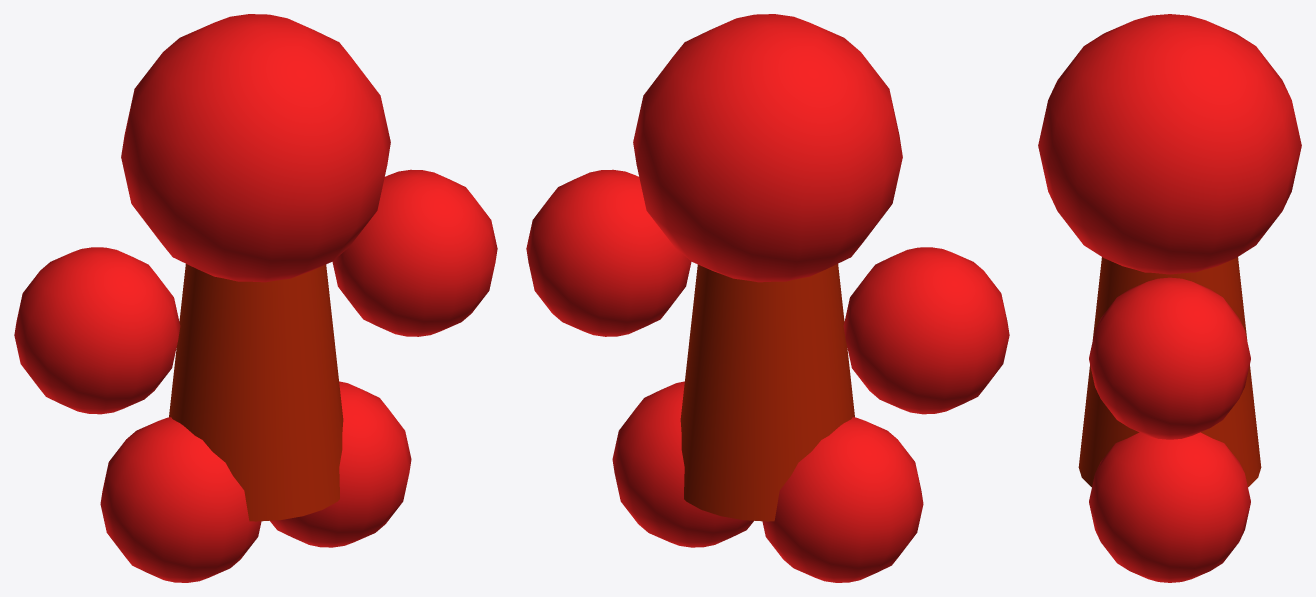
File: redmen.FBX
The picture shows the model from 3 angles, left to right: view 1: azimuth 30°, elevation 25°; view 2: azimuth 150°, elevation 25°; view 3: azimuth 270°, elevation 25°; orthographic projection. The views are drawn at different scales.
Parts seen in each view (by area): view 1: Sphere005, Cone001, Sphere004, Sphere003, Sphere002, Sphere001; view 2: Sphere005, Cone001, Sphere004, Sphere003, Sphere002, Sphere001; view 3: Sphere005, Sphere003, Sphere001, Cone001.
Boxes of the visible parts, left/top/right/bottom form: Sphere005: left=121, top=14, right=390, bottom=282; Cone001: left=169, top=264, right=343, bottom=521; Sphere004: left=14, top=247, right=180, bottom=414; Sphere003: left=332, top=169, right=497, bottom=336; Sphere002: left=100, top=417, right=261, bottom=582; Sphere001: left=270, top=381, right=411, bottom=547; Sphere005: left=633, top=14, right=902, bottom=282; Cone001: left=680, top=264, right=854, bottom=521; Sphere004: left=843, top=247, right=1009, bottom=414; Sphere003: left=526, top=169, right=691, bottom=336; Sphere002: left=762, top=417, right=923, bottom=582; Sphere001: left=612, top=381, right=753, bottom=547; Sphere005: left=1038, top=14, right=1301, bottom=274; Sphere003: left=1089, top=277, right=1250, bottom=439; Sphere001: left=1089, top=432, right=1250, bottom=582; Cone001: left=1078, top=257, right=1261, bottom=487.
Size of the model in its own units: 3.14 by 3.45 by 1.6.
